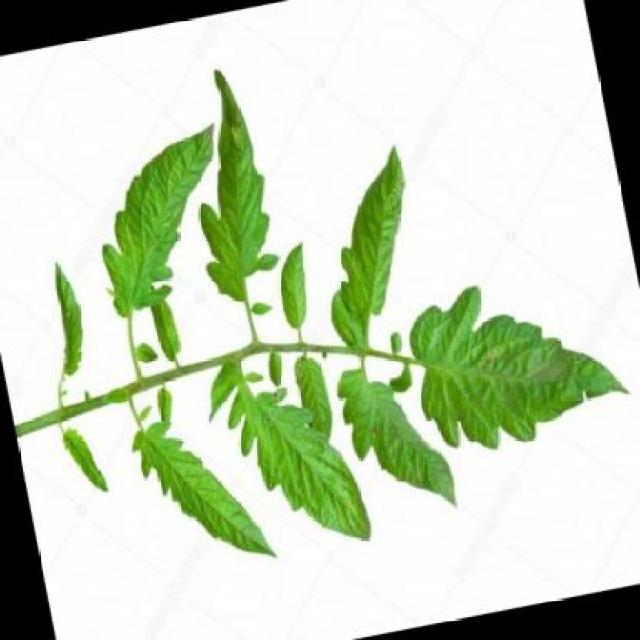Healthy Leaf: (388, 260, 634, 472), (206, 342, 385, 572), (74, 120, 255, 337), (106, 391, 265, 595), (176, 55, 286, 314), (314, 143, 446, 345), (324, 340, 464, 518)
